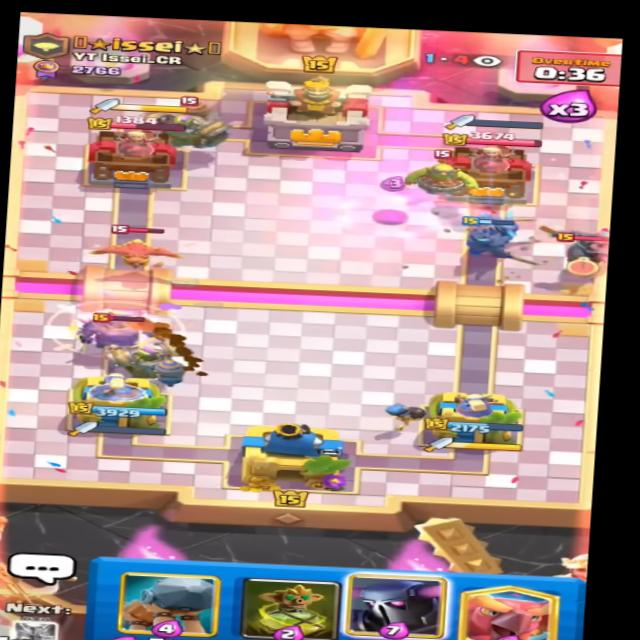goblin-demolisher: (397, 148, 482, 203)
goblin-machine: (128, 89, 243, 154)
pekka: (525, 214, 624, 276), (67, 306, 164, 355)
phoenix: (81, 220, 200, 274)
